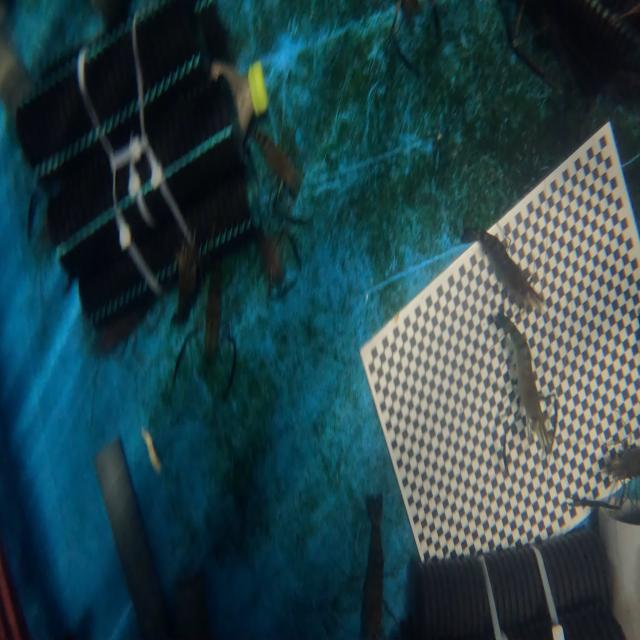prawn: (506, 320, 548, 439), (478, 232, 541, 308), (250, 130, 300, 192), (255, 230, 284, 293)
